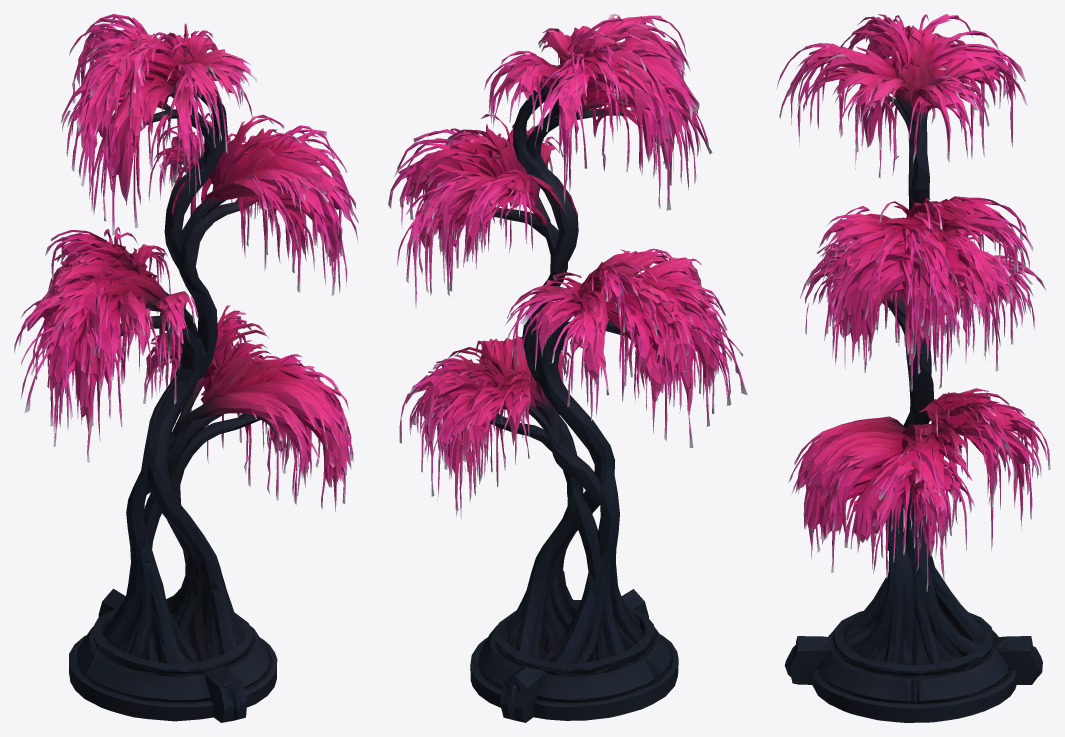
File: source.glb
3 views of the same model, side by side, from view 1: azimuth 30°, elevation 25°; view 2: azimuth 150°, elevation 25°; view 3: azimuth 270°, elevation 25° (orthographic).
Parts seen in each view (by area): view 1: model; view 2: model; view 3: model.
Boxes of the visible parts, x1,y1,x2,y2 form: model: (14, 14, 358, 722); model: (388, 14, 747, 722); model: (776, 14, 1050, 722).
Size of the model in its own units: 1.01 by 1.9 by 0.7274.
1 material, 1 textured.
